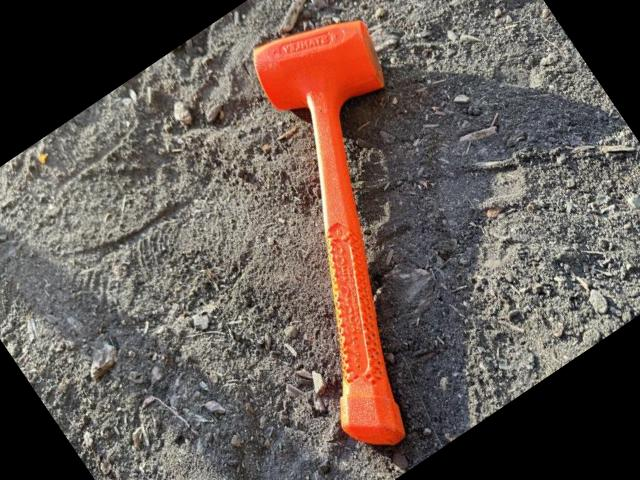hammer: (138, 0, 568, 462)
